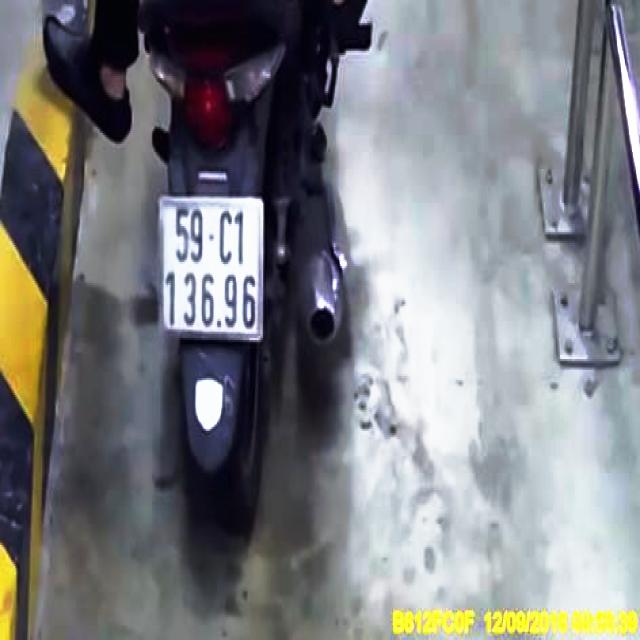license_plate: (157, 197, 264, 342)
